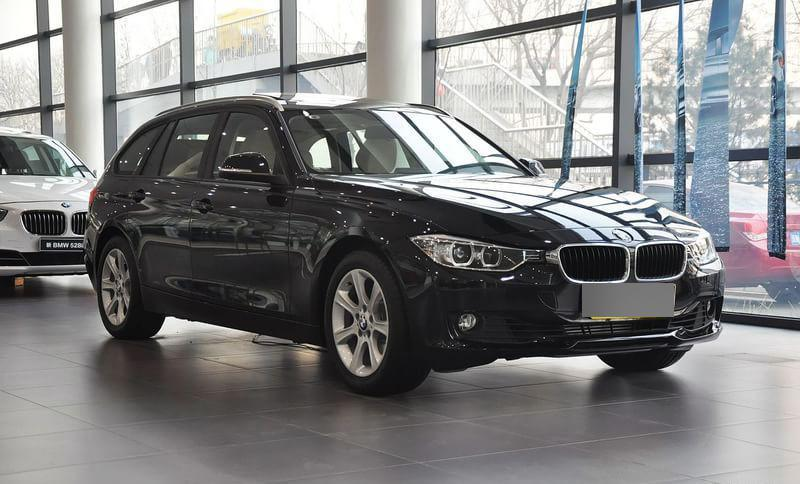Wagon: (83, 93, 728, 396)
